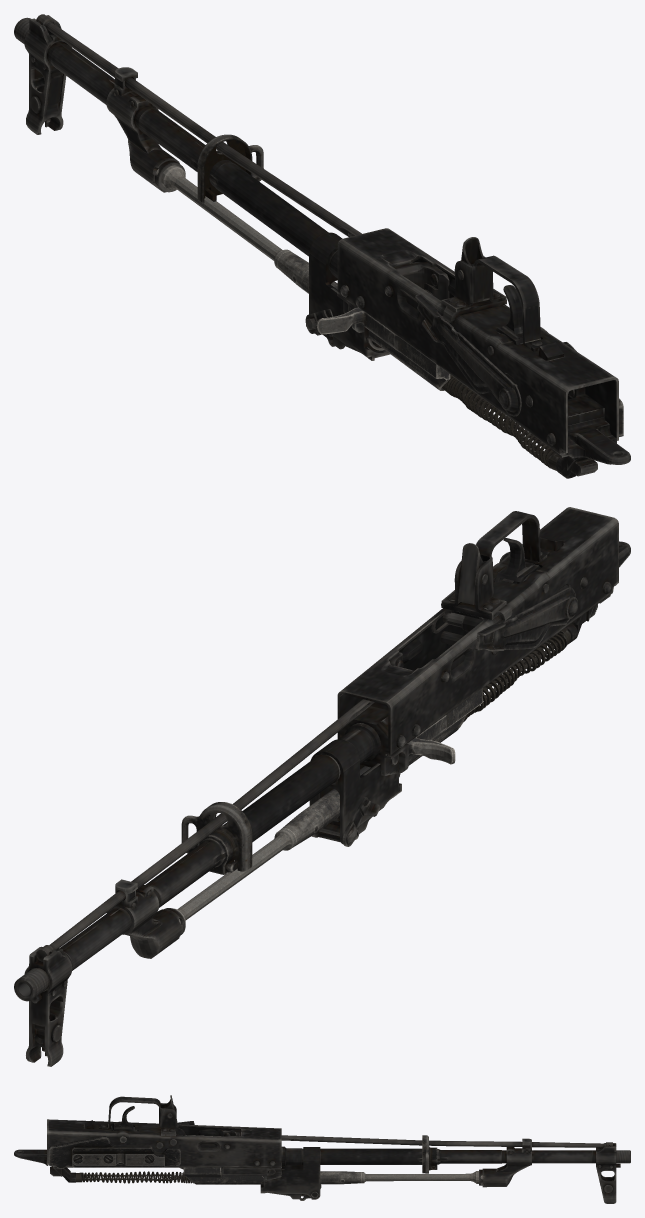
3 views of the same model, one above another, from view 1: azimuth 30°, elevation 25°; view 2: azimuth 150°, elevation 25°; view 3: azimuth 270°, elevation 25° (orthographic). The views are drawn at different scales.
Parts seen in each view (by area): view 1: TW_5a0ec13bfcdbcb00165aa685_PZ_Import; view 2: TW_5a0ec13bfcdbcb00165aa685_PZ_Import; view 3: TW_5a0ec13bfcdbcb00165aa685_PZ_Import.
Part boxes in pixels (<box>): TW_5a0ec13bfcdbcb00165aa685_PZ_Import: <box>14,14,630,478</box>; TW_5a0ec13bfcdbcb00165aa685_PZ_Import: <box>14,507,630,1066</box>; TW_5a0ec13bfcdbcb00165aa685_PZ_Import: <box>14,1095,630,1203</box>.
Size of the model in its own units: 0.0432 by 0.3894 by 0.0736.
Materials: 1 (1 with a texture image).
